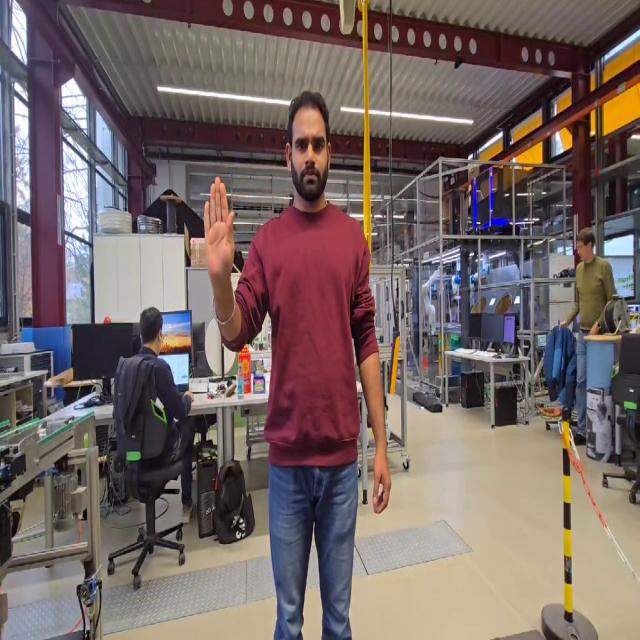open_palm: (200, 172, 239, 294)
